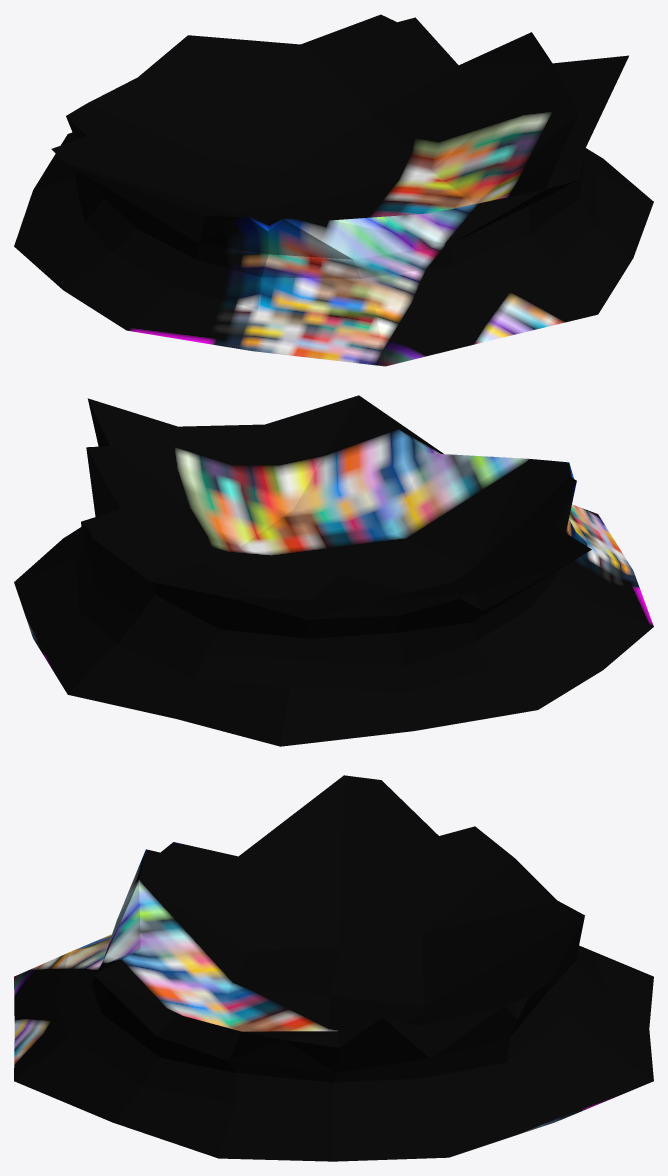
The model's file is Crater.fbx.
3 renders of one model, top to bottom at view 1: azimuth 30°, elevation 25°; view 2: azimuth 150°, elevation 25°; view 3: azimuth 270°, elevation 25°, orthographic.
Parts seen in each view (by area): view 1: Crater; view 2: Crater; view 3: Crater.
Part boxes in pixels (x1,y1,x2,y2): Crater: [14, 14, 653, 366]; Crater: [14, 395, 653, 746]; Crater: [14, 775, 653, 1161].
Bounding box in the file's own units: 1381 × 300 × 1405.
